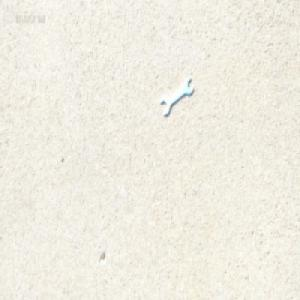Wrench: (160, 77, 192, 115)
